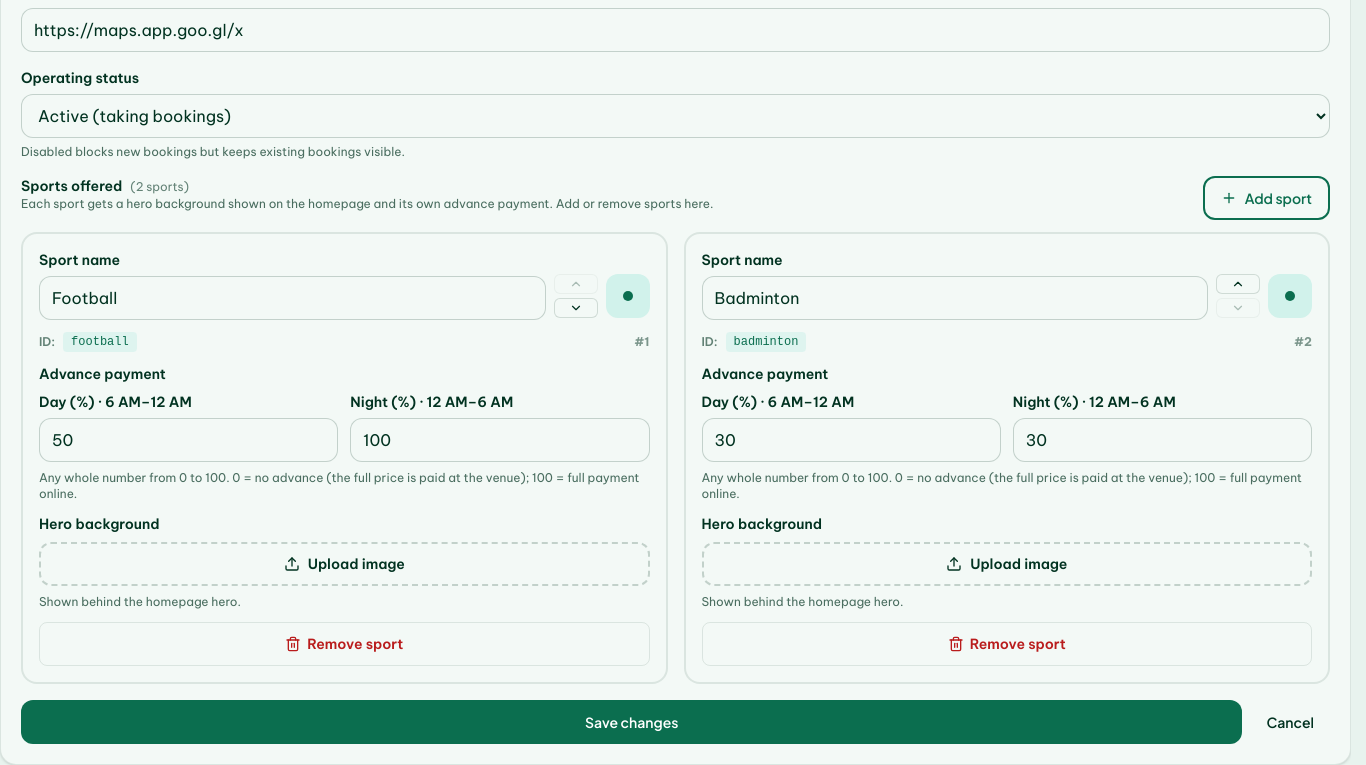
it: Venue tab: sport-wise advance › refuses 101 before saving
The image size is (1366, 765).
(page scrolled)
Replace the text in the number field labelled "Night (%) · 12 AM–6 AM" below "football" with "101". click: (500, 440)
box: 350,418 -> 650,462
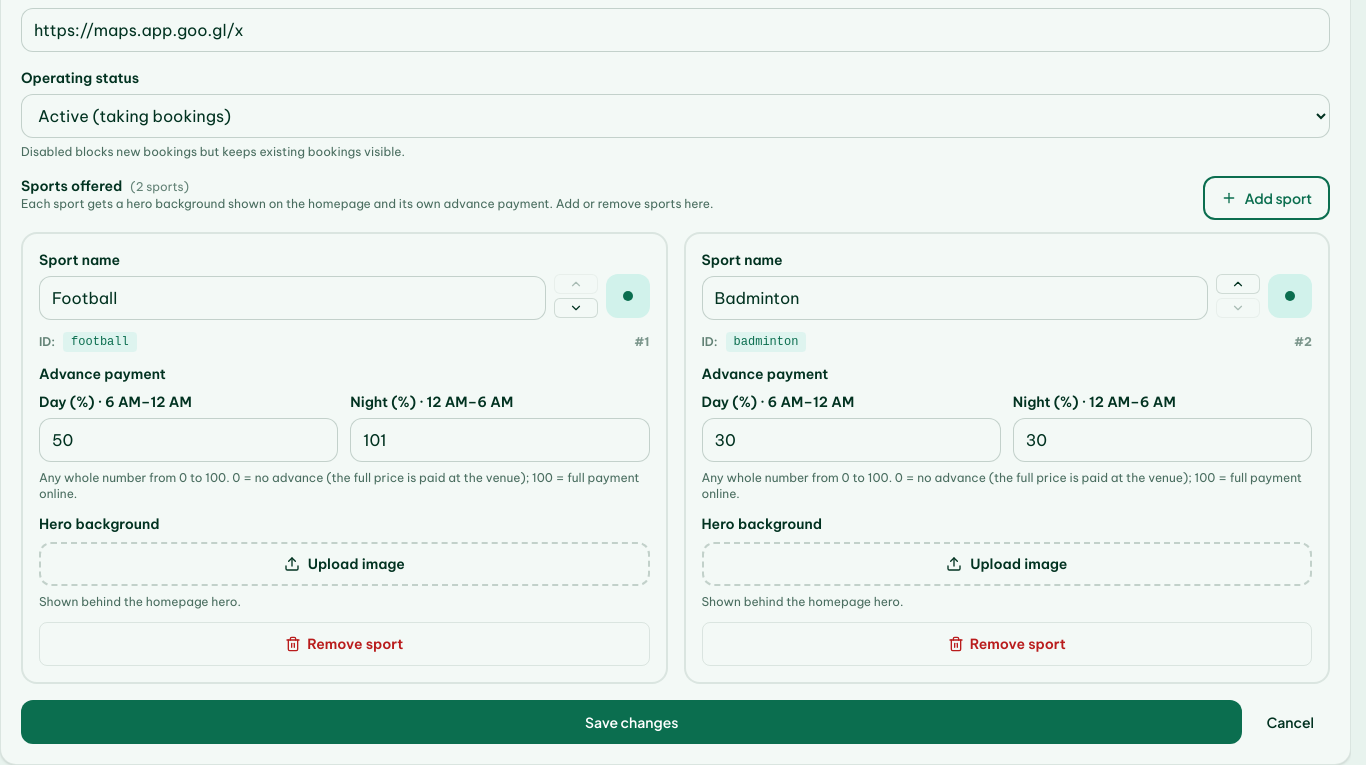
Click the button "Save changes". click: click(632, 722)
box: 21,700 -> 1242,744
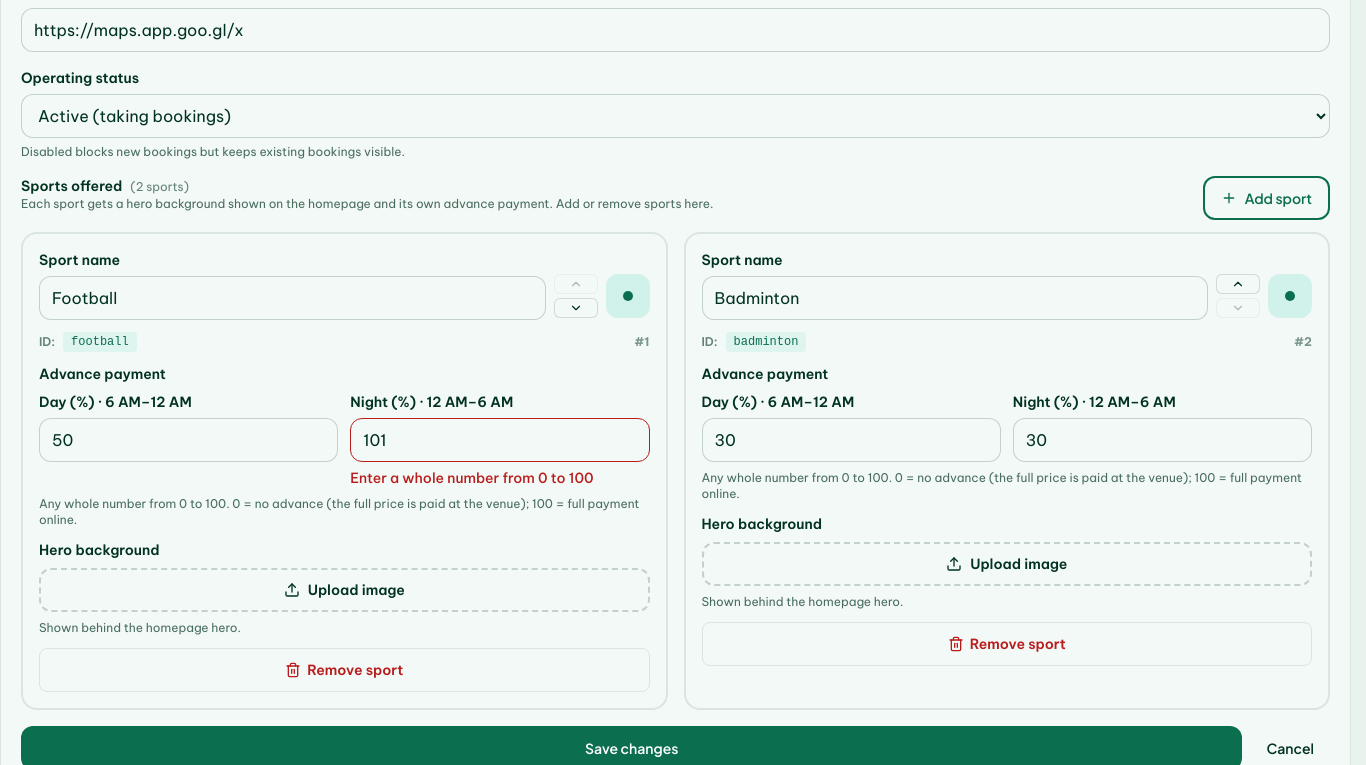
Expected: the text "Enter a whole number from 0 to 100" is shown, 350,469 -> 594,487
